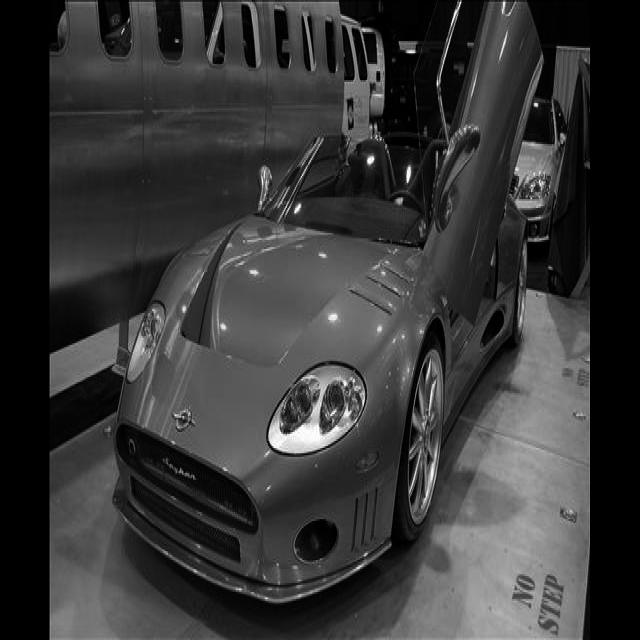car: (110, 0, 545, 606)
